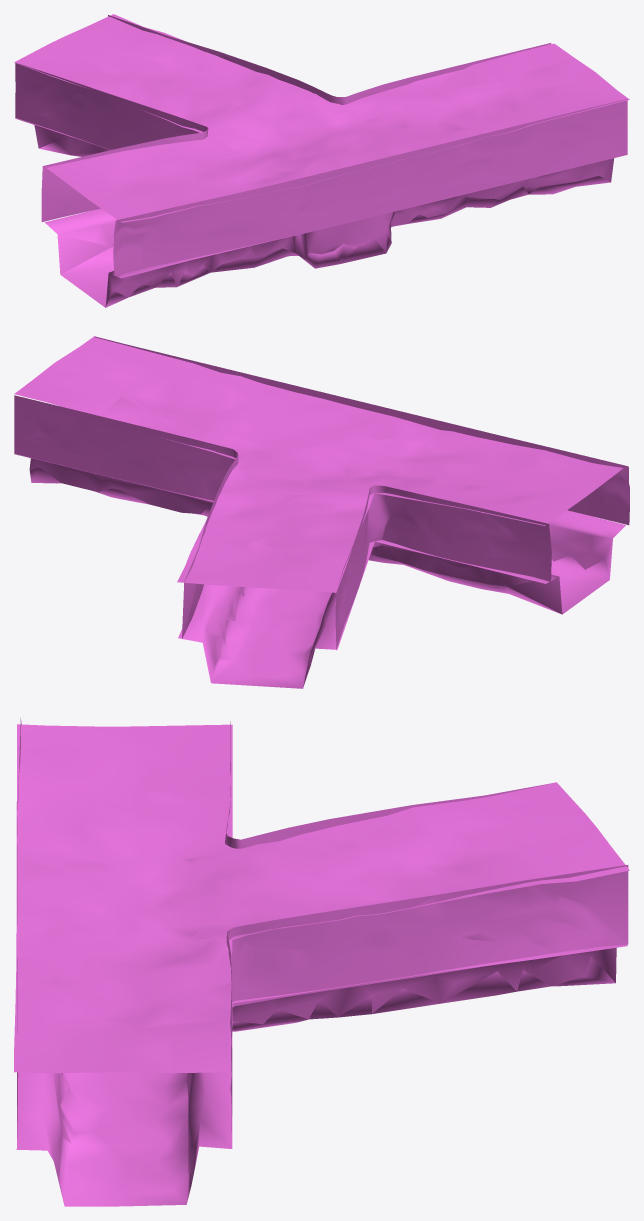
File: Unique 2.fbx
3 views of the same model, one above another, from view 1: azimuth 30°, elevation 25°; view 2: azimuth 150°, elevation 25°; view 3: azimuth 270°, elevation 25° (orthographic). The views are drawn at different scales.
Visible parts, largest first — view 1: Unique 2_3, Unique 2_2, Unique 2_1, Unique 2_1.001; view 2: Unique 2_3, Unique 2_2, Unique 2_1, Unique 2_1.001; view 3: Unique 2_3, Unique 2_2, Unique 2_1.001, Unique 2_1.
Boxes of the visible parts, bbox=[...] form: Unique 2_3: bbox=[14, 14, 629, 222]; Unique 2_2: bbox=[15, 15, 627, 275]; Unique 2_1: bbox=[15, 118, 614, 306]; Unique 2_1.001: bbox=[39, 142, 610, 307]; Unique 2_3: bbox=[14, 336, 622, 592]; Unique 2_2: bbox=[14, 336, 629, 650]; Unique 2_1: bbox=[14, 453, 625, 686]; Unique 2_1.001: bbox=[29, 467, 609, 688]; Unique 2_3: bbox=[14, 724, 629, 1073]; Unique 2_2: bbox=[17, 718, 628, 1138]; Unique 2_1.001: bbox=[59, 956, 615, 1206]; Unique 2_1: bbox=[16, 802, 627, 1201].
Size of the model in its own units: 908 by 166 by 668.
